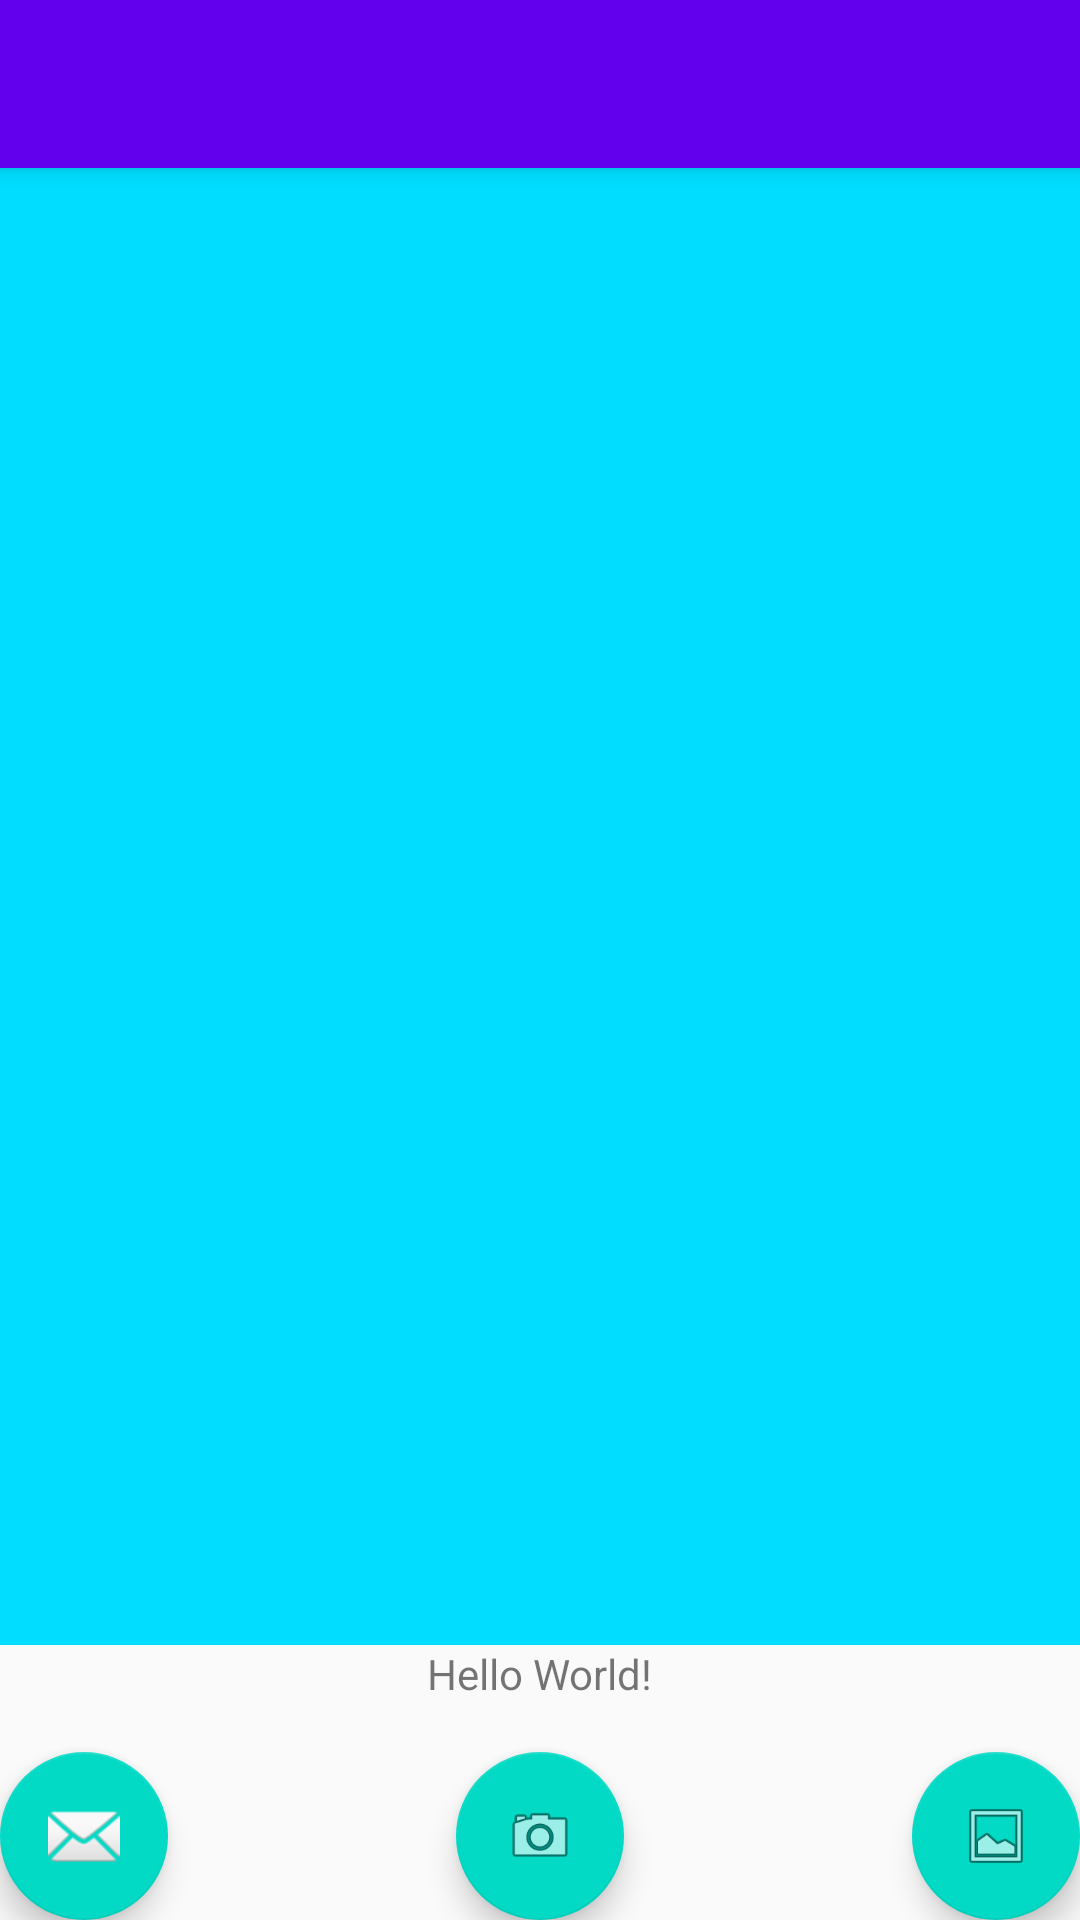

Named icons in this screenshot (1080*1920) and their centers, [x,y]:
camera: [540,1836]
email: [84,1836]
gallery: [996,1836]
